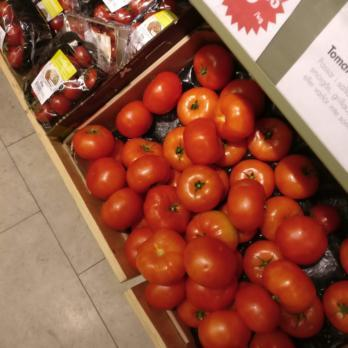Tomato: (104, 157, 319, 234), (140, 234, 348, 306), (111, 96, 267, 163), (179, 301, 299, 348), (186, 47, 224, 91), (144, 72, 184, 106)
